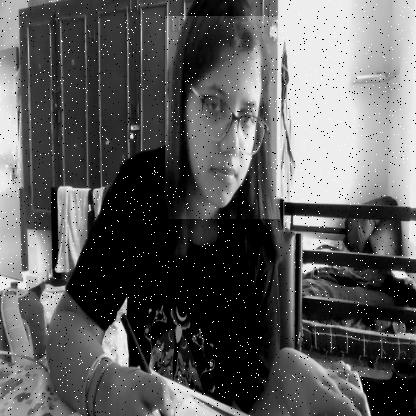Normal: (165, 16, 280, 219)
